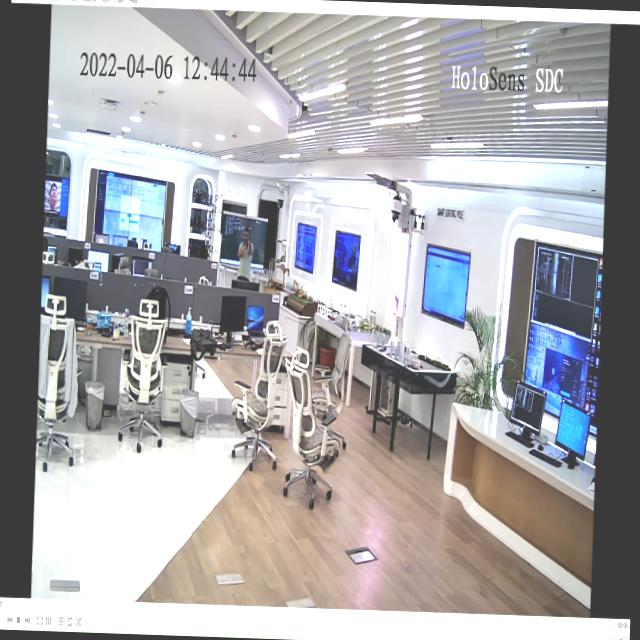long weapon: (236, 232, 258, 254)
